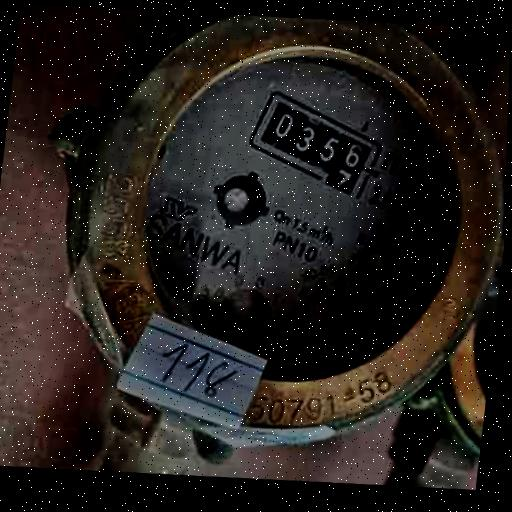0: (259, 100, 306, 153)
3: (283, 110, 329, 164)
5: (304, 121, 351, 175)
6: (323, 132, 375, 197)
border_water_meter_number: (238, 81, 395, 206)
